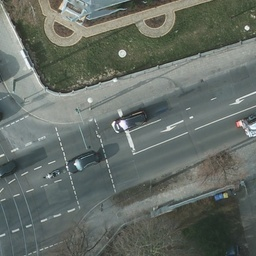car: (112, 108, 149, 132), (68, 151, 101, 171), (1, 157, 16, 179)
